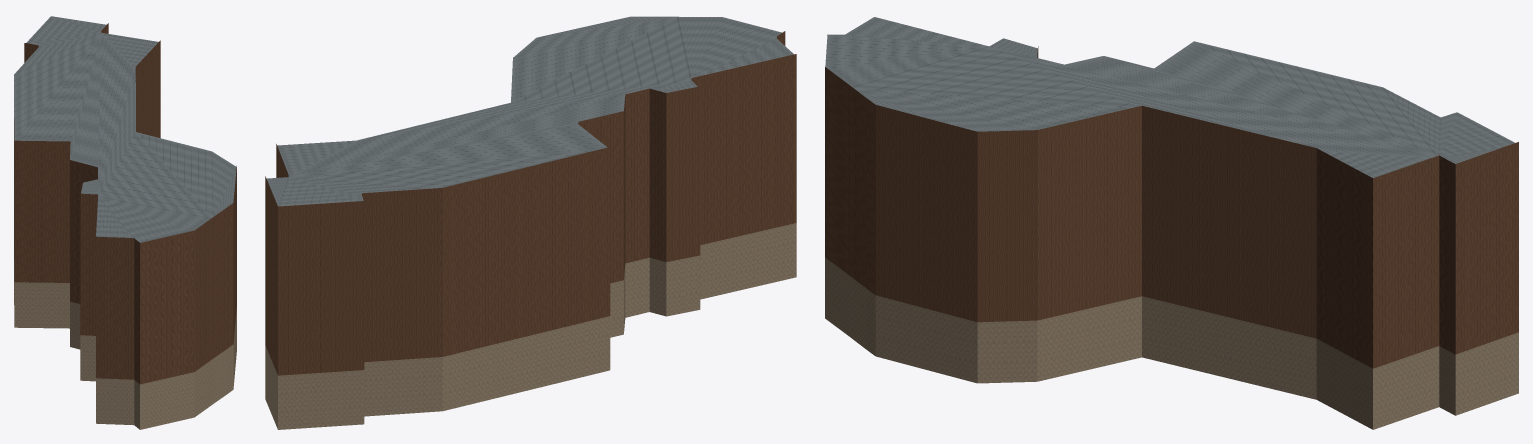
Rendered from bld_c8_38_507.gltf.
3 views of the same model, side by side, from view 1: azimuth 30°, elevation 25°; view 2: azimuth 150°, elevation 25°; view 3: azimuth 270°, elevation 25° (orthographic). The views are drawn at different scales.
Parts seen in each view (by area): view 1: bld_c8_38_507; view 2: bld_c8_38_507; view 3: bld_c8_38_507.
Part boxes in pixels (x1,y1,x2,y2): bld_c8_38_507: [14, 16, 236, 429]; bld_c8_38_507: [265, 16, 796, 429]; bld_c8_38_507: [825, 17, 1518, 429].
Size of the model in its own units: 29.37 by 20.98 by 52.4.
Materials: 4 (4 with a texture image).
